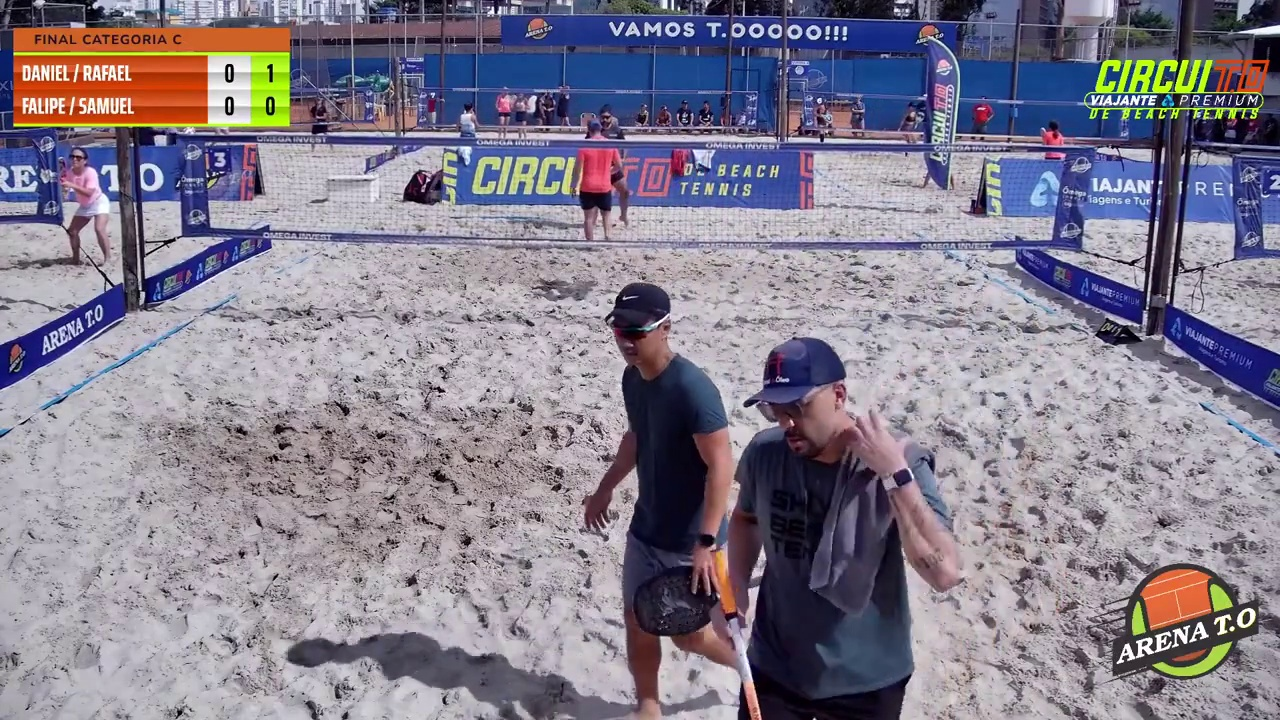court_line: (631, 0, 801, 418)
